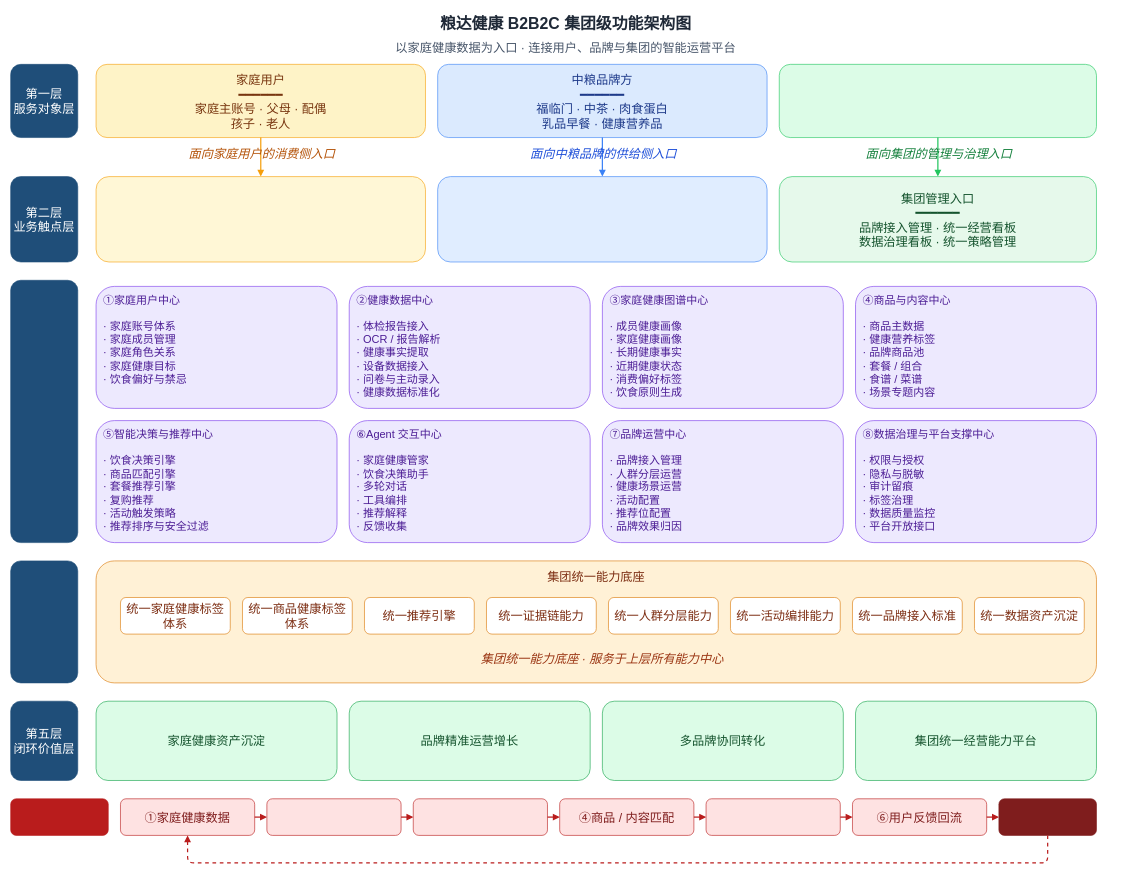
Some shapes in this 1132 by 878 pixel diagram are drawn without their labels. Here are the shapes that lost their labels. From the top down, the centre of each, then its label:
At (x=937, y=101): "集团管理方 ━━━━━━ 集团数字化 · 品牌运营 品类运营 · 用户运营 · 数据治理".
At (x=260, y=219): "家庭健康入口 ━━━━━━ 设备数据 · 体检报告上传 · 健康问答 饮食决策 · 商品推荐 · 购物车购买".
At (x=602, y=219): "品牌运营入口 ━━━━━━ 商品接入 · 商品标签配置 场景活动配置 · 人群运营 · 效果分析".
At (x=44, y=411): "第三层 核心业务能力层".
At (x=44, y=621): "第四层 平台中台能力层".
At (x=59, y=816): "平台主链路闭环 · 经营价值循环".
At (x=333, y=816): "②家庭健康图谱".
At (x=480, y=816): "③饮食决策".
At (x=772, y=816): "⑤品牌运营转化".
At (x=1047, y=816): "持续闭环 · 长期价值".
